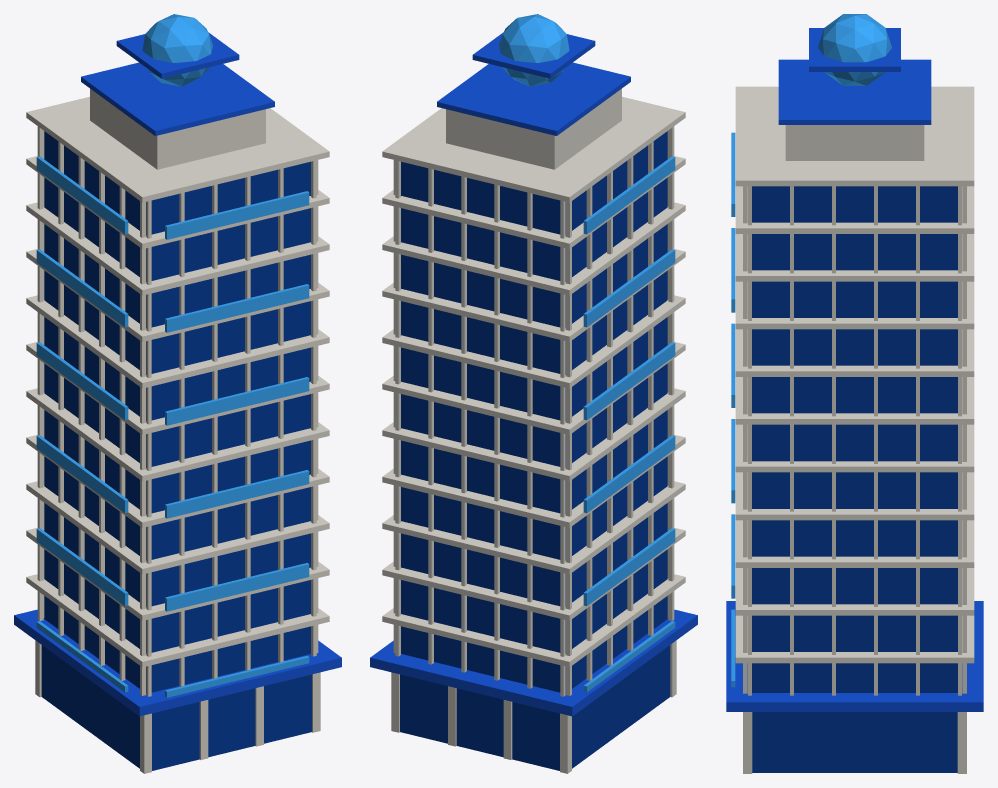
Rendered from citypop_hotel_tower_a.glb.
The picture shows the model from 3 angles, left to right: view 1: azimuth 30°, elevation 25°; view 2: azimuth 150°, elevation 25°; view 3: azimuth 270°, elevation 25°; orthographic projection. The views are drawn at different scales.
Visible parts, largest first — view 1: ModernistHotel; view 2: ModernistHotel; view 3: ModernistHotel.
Boxes of the visible parts, x1=… form: ModernistHotel: x1=14, y1=14, x2=341, y2=773; ModernistHotel: x1=370, y1=14, x2=697, y2=773; ModernistHotel: x1=726, y1=14, x2=983, y2=773.
Bounding box in the file's own units: 14.58 × 47.9 × 15.66.
